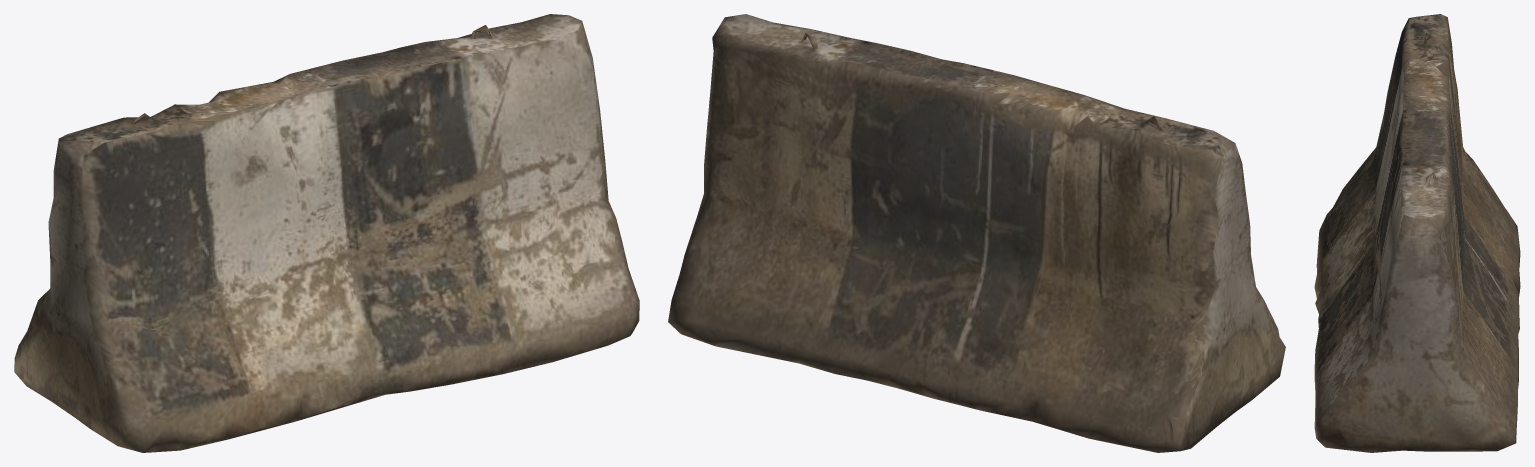
The model's file is concrete_road_barrier.glb.
3 views of the same model, side by side, from view 1: azimuth 30°, elevation 25°; view 2: azimuth 150°, elevation 25°; view 3: azimuth 270°, elevation 25° (orthographic). The views are drawn at different scales.
Visible parts, largest first — view 1: concrete_road_barrier; view 2: concrete_road_barrier; view 3: concrete_road_barrier.
Part boxes in pixels (x1,y1,x2,y2): concrete_road_barrier: [14, 14, 639, 452]; concrete_road_barrier: [668, 14, 1285, 452]; concrete_road_barrier: [1314, 14, 1520, 452].
Size of the model in its own units: 1.54 by 0.8334 by 0.6327.
1 material, 1 textured.
